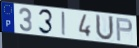3: (37, 8, 55, 36), (18, 7, 33, 32)
4: (78, 14, 93, 39)
I: (61, 11, 67, 37)
P: (115, 17, 134, 43)
U: (95, 13, 116, 42)
